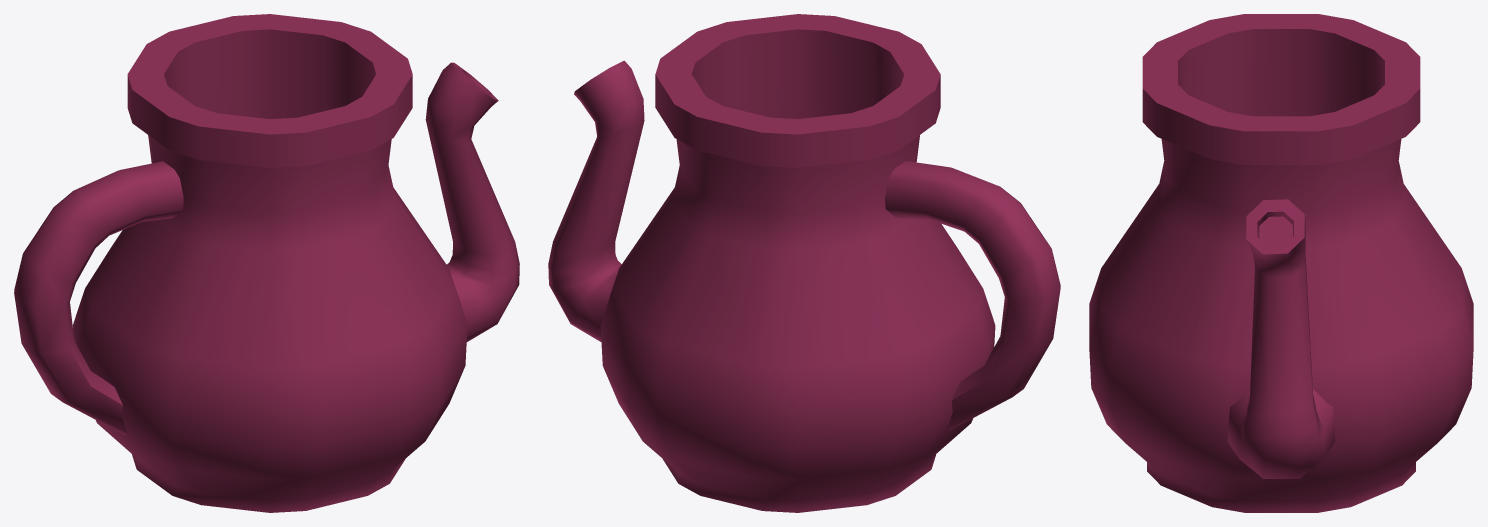
The model's file is F_Kettle_01.fbx.
3 views of the same model, side by side, from view 1: azimuth 30°, elevation 25°; view 2: azimuth 150°, elevation 25°; view 3: azimuth 270°, elevation 25° (orthographic).
Visible parts, largest first — view 1: Cube.002; view 2: Cube.002; view 3: Cube.002.
Boxes of the visible parts, left/top/right/bottom form: Cube.002: left=14, top=14, right=519, bottom=512; Cube.002: left=548, top=14, right=1060, bottom=512; Cube.002: left=1089, top=14, right=1473, bottom=512.
Size of the model in its own units: 154 by 113 by 102.
